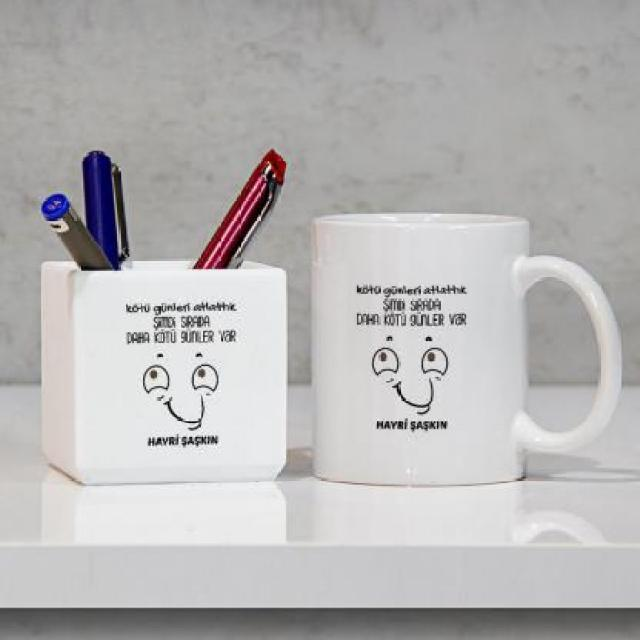taza: (314, 214, 624, 491)
